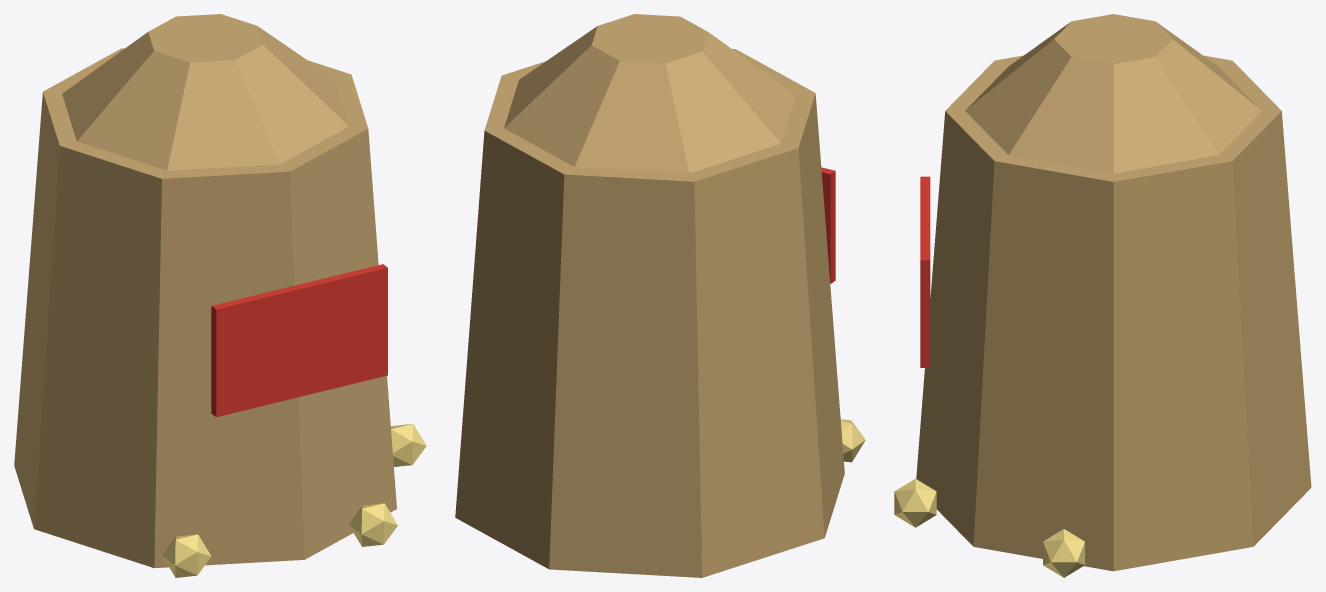
The model's file is bowl_pebble_sack.glb.
The picture shows the model from 3 angles, left to right: view 1: azimuth 30°, elevation 25°; view 2: azimuth 150°, elevation 25°; view 3: azimuth 270°, elevation 25°; orthographic projection.
Parts seen in each view (by area): view 1: sack_sack, tie_sack, label_sack_label, pebbles_popcorn_yellow (×3); view 2: sack_sack, tie_sack, label_sack_label, pebbles_popcorn_yellow; view 3: sack_sack, tie_sack, pebbles_popcorn_yellow (×2), label_sack_label.
Boxes of the visible parts, bbox=[...] form: sack_sack: bbox=[14, 48, 396, 568]; tie_sack: bbox=[62, 14, 348, 170]; label_sack_label: bbox=[211, 264, 387, 417]; pebbles_popcorn_yellow (×3): bbox=[162, 424, 426, 577]; sack_sack: bbox=[455, 49, 844, 577]; tie_sack: bbox=[504, 14, 795, 173]; label_sack_label: bbox=[821, 167, 835, 283]; pebbles_popcorn_yellow: bbox=[840, 419, 865, 462]; sack_sack: bbox=[916, 55, 1311, 571]; tie_sack: bbox=[965, 14, 1261, 173]; pebbles_popcorn_yellow (×2): bbox=[894, 478, 1084, 577]; label_sack_label: bbox=[920, 176, 930, 367].
Size of the model in its own units: 0.4213 by 0.5013 by 0.4213.
